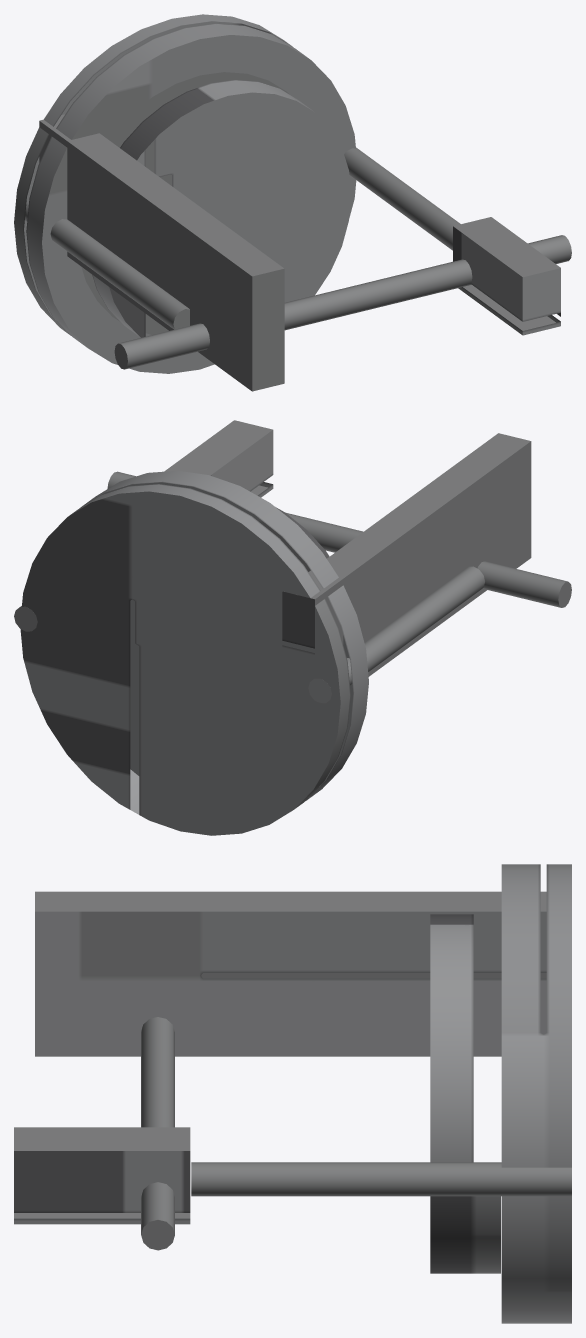
3 renders of one model, top to bottom at view 1: azimuth 30°, elevation 25°; view 2: azimuth 150°, elevation 25°; view 3: azimuth 270°, elevation 25°, orthographic. The views are drawn at different scales.
Bounding box in the file's own units: 1.33 × 0.9479 × 1.15.
